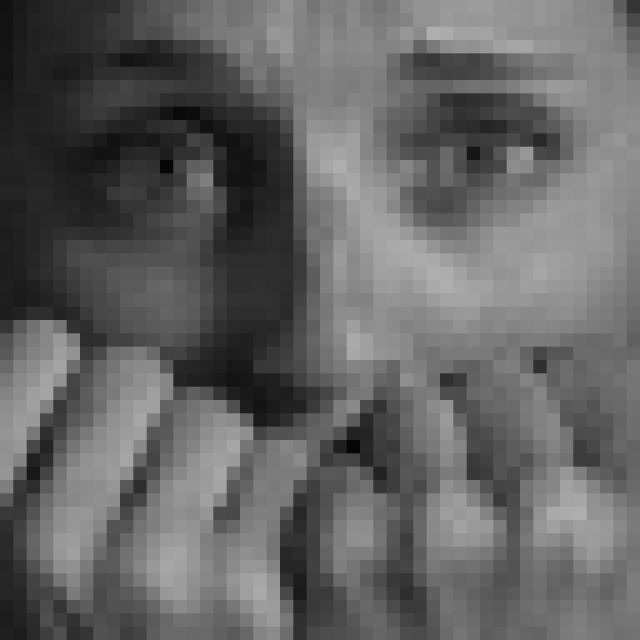fear: (52, 31, 589, 528)
